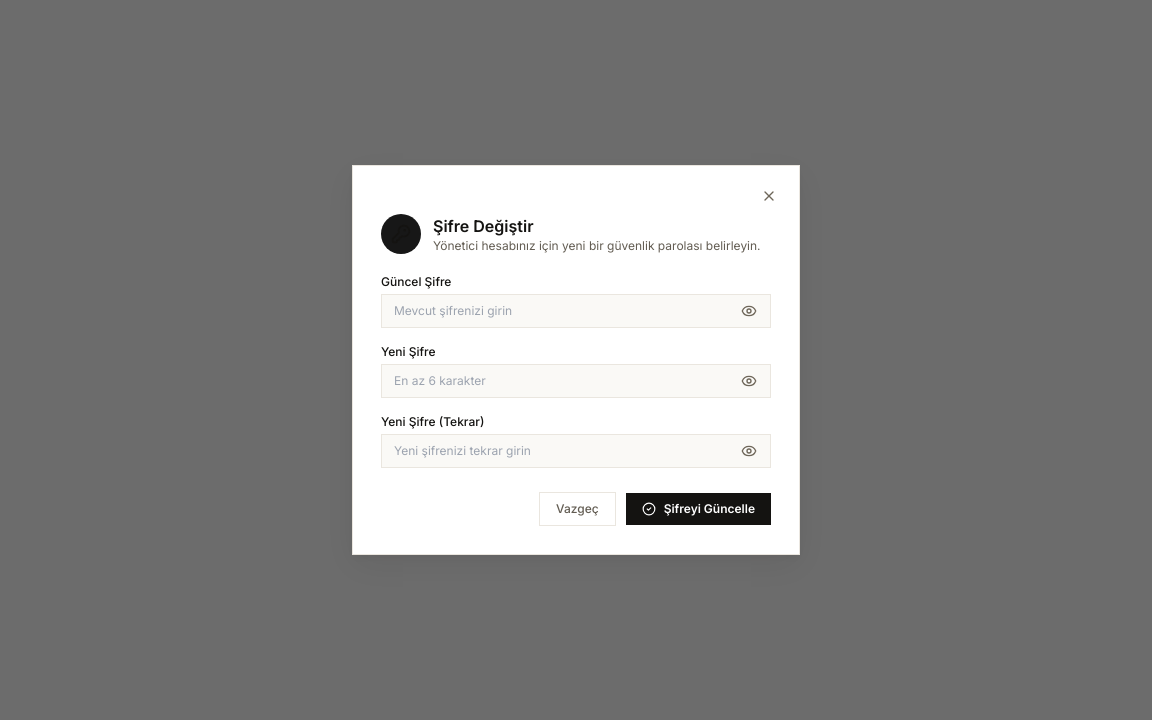
Test case: AdminChangePasswordModal › shows error when current password is empty
The width and height of the screenshot is (1152, 720).
Type "NewPass123!" into the password field with placeholder "En az 6 karakter" at (576, 381), box x1=381 y1=364 x2=771 y2=398
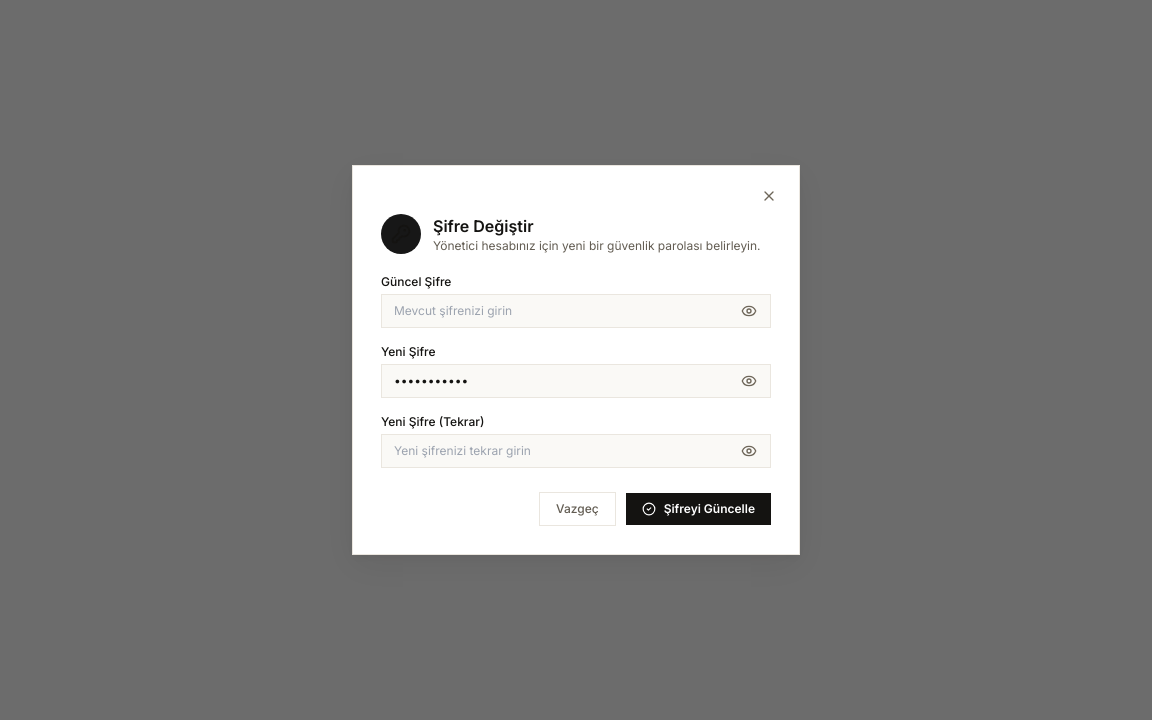
Type "NewPass123!" into the password field with placeholder "Yeni şifrenizi tekrar girin" at (576, 451), box x1=381 y1=434 x2=771 y2=468
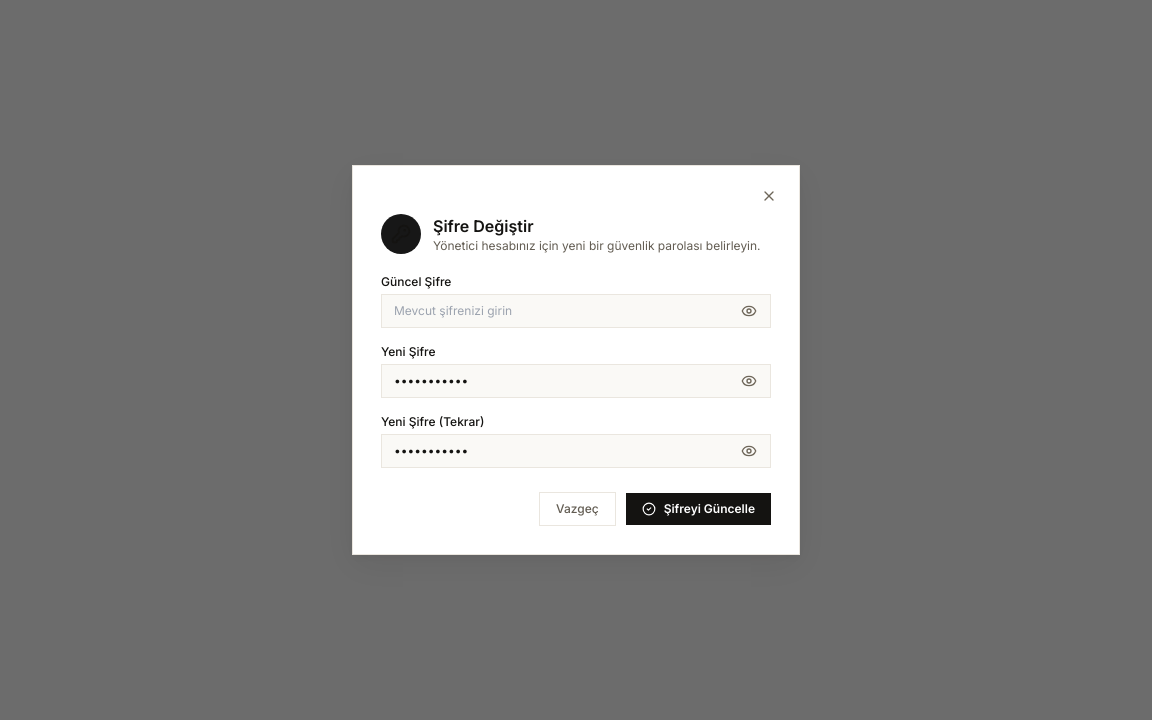
Submit the form "Şifreyi Güncelle", box x1=381 y1=274 x2=771 y2=526
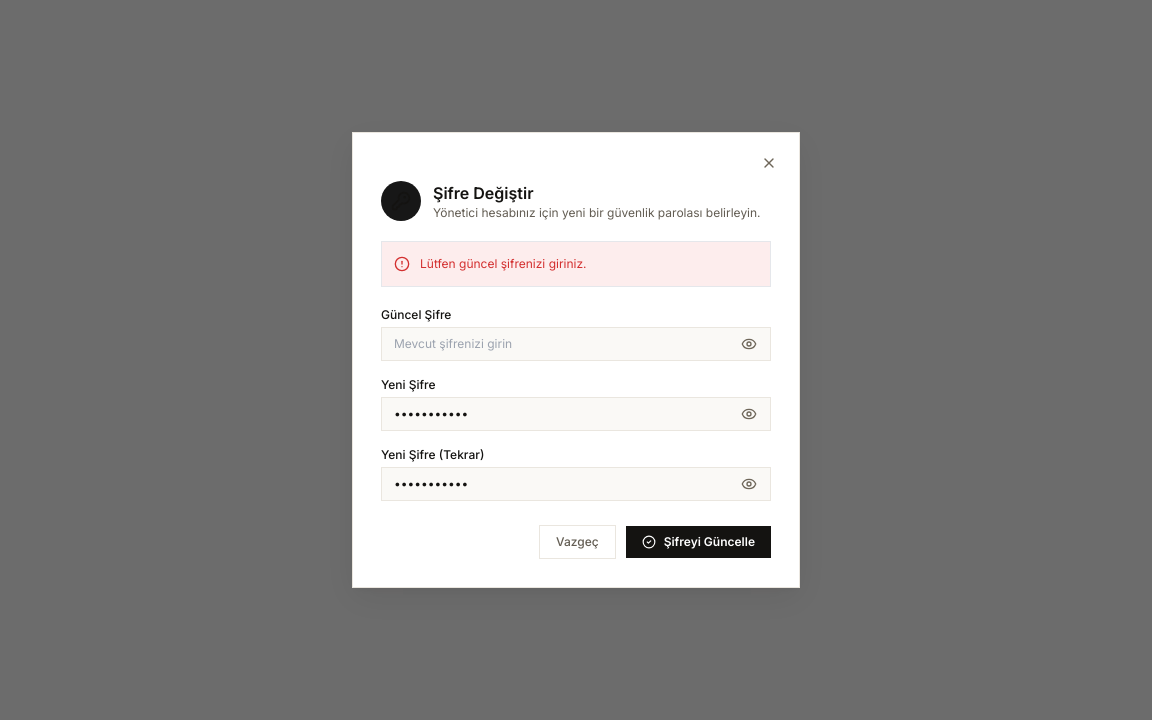
Expected: the text "Lütfen güncel şifrenizi giriniz." is shown, x1=420 y1=254 x2=586 y2=274
